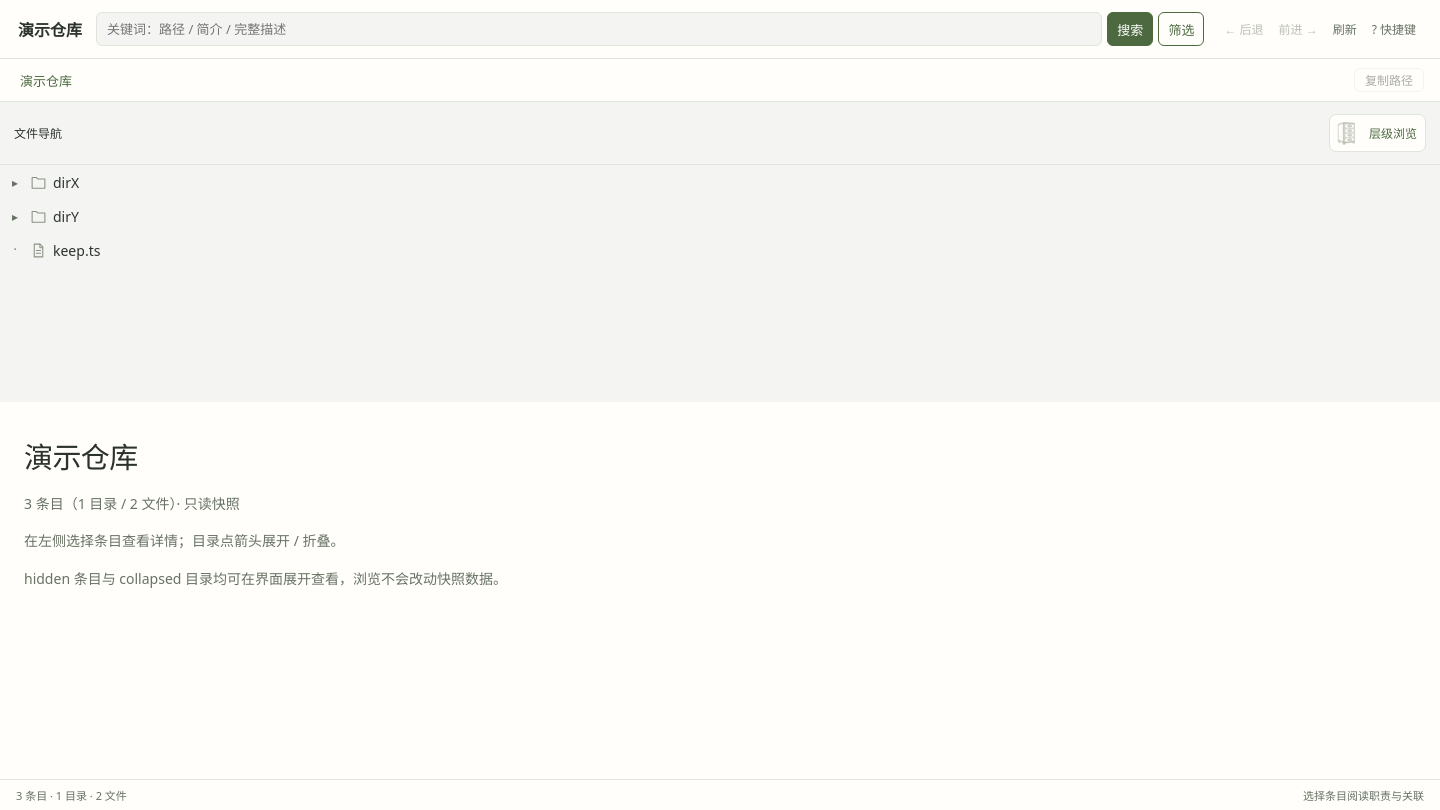
Scenario: 第二轮审查回归（R1/R4/R7/R10/R11） › R1：折叠选中项祖先后再触发懒加载完成，折叠不被弹回
Check: the text "dirX" is shown, box [53, 172, 79, 192]
选中 dirX/deep.ts：revealSelection 补齐祖先（此时祖先已展开，应为无变化操作）
Click the button named "展开 dirX": (15, 182) [6, 174, 24, 190]
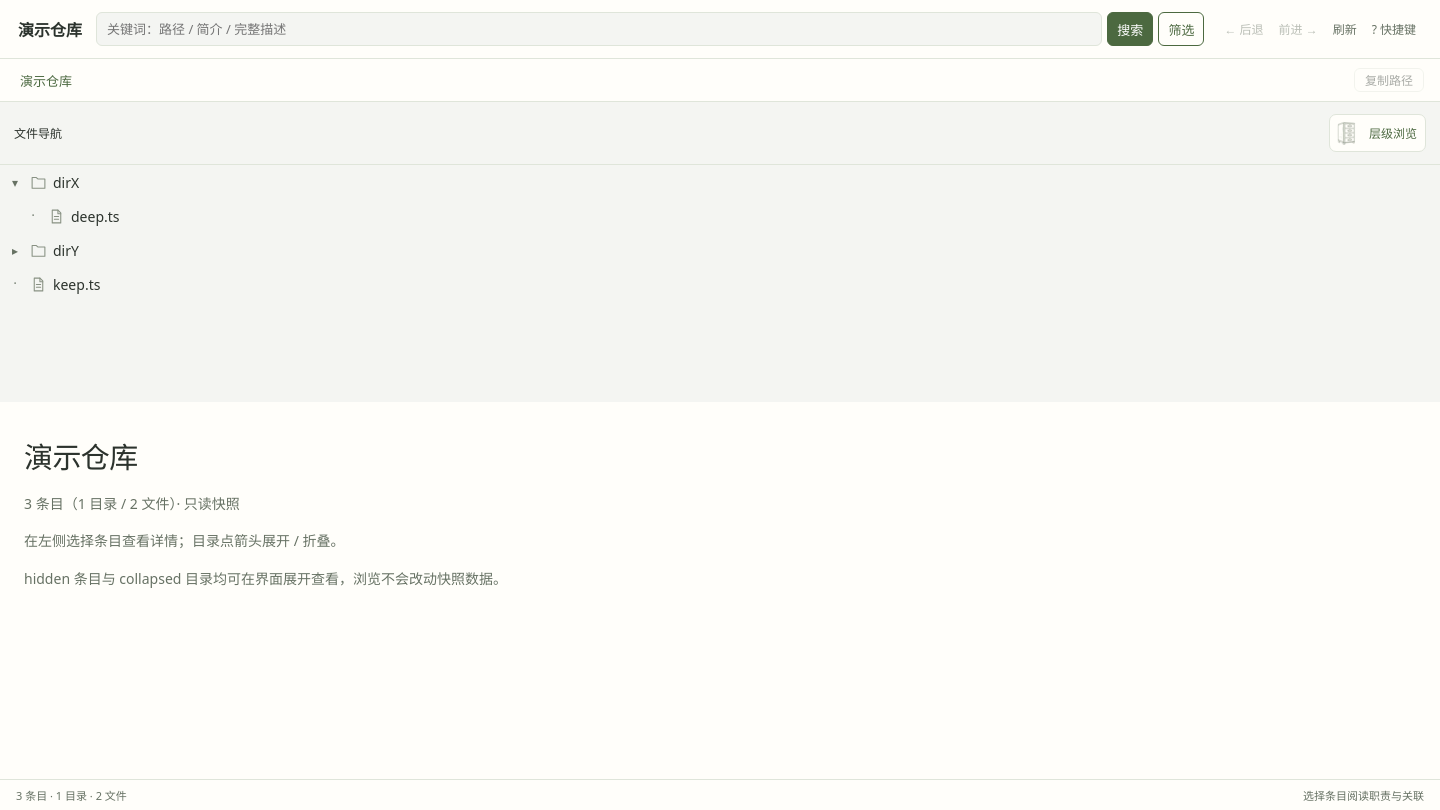
Check: the text "deep.ts" is shown
Click the text "deep.ts": (95, 216) [71, 206, 120, 226]
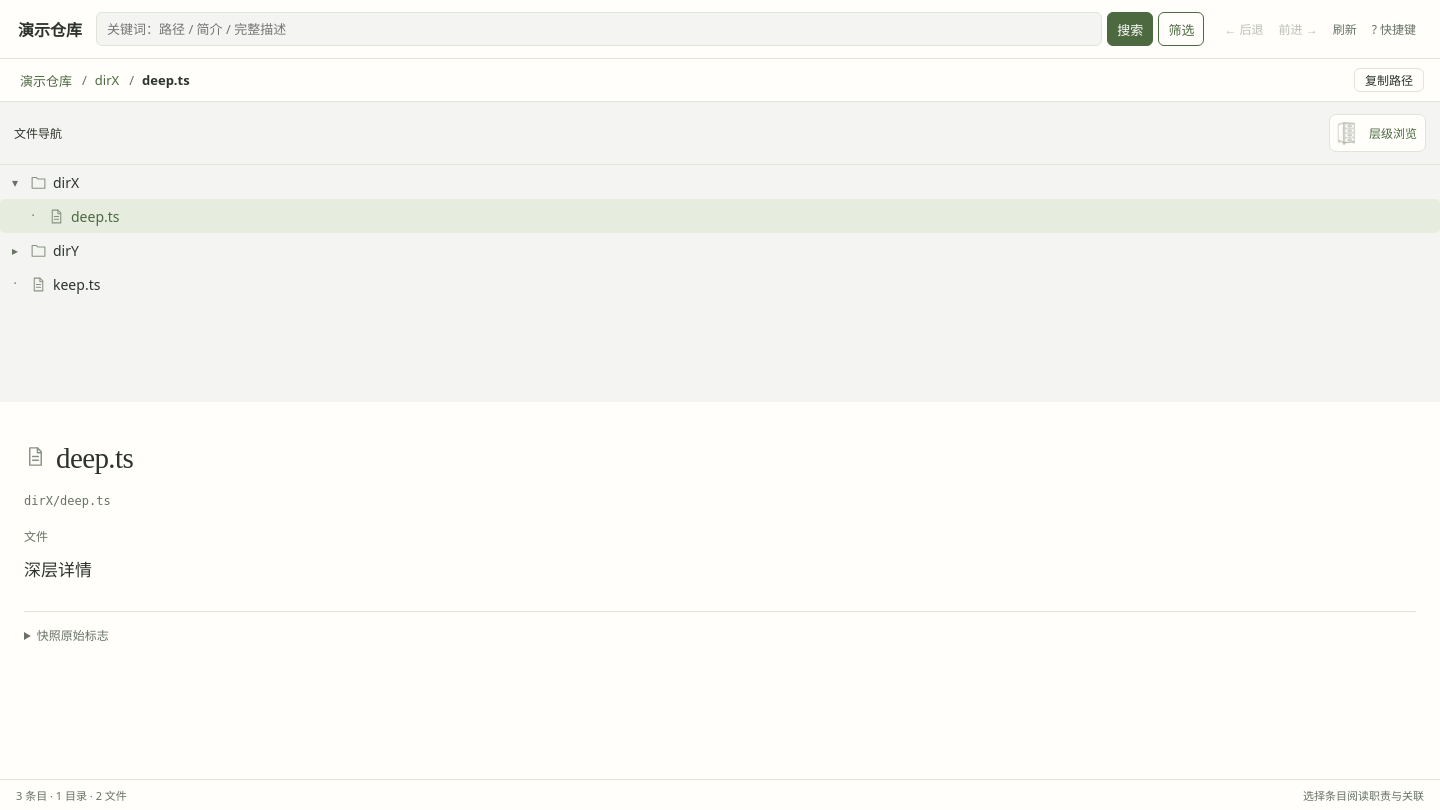
Check: the text "深层详情" is shown, box [24, 558, 92, 581]
用户显式折叠祖先 dirX
Click the button named "折叠 dirX": (15, 182) [6, 174, 24, 190]
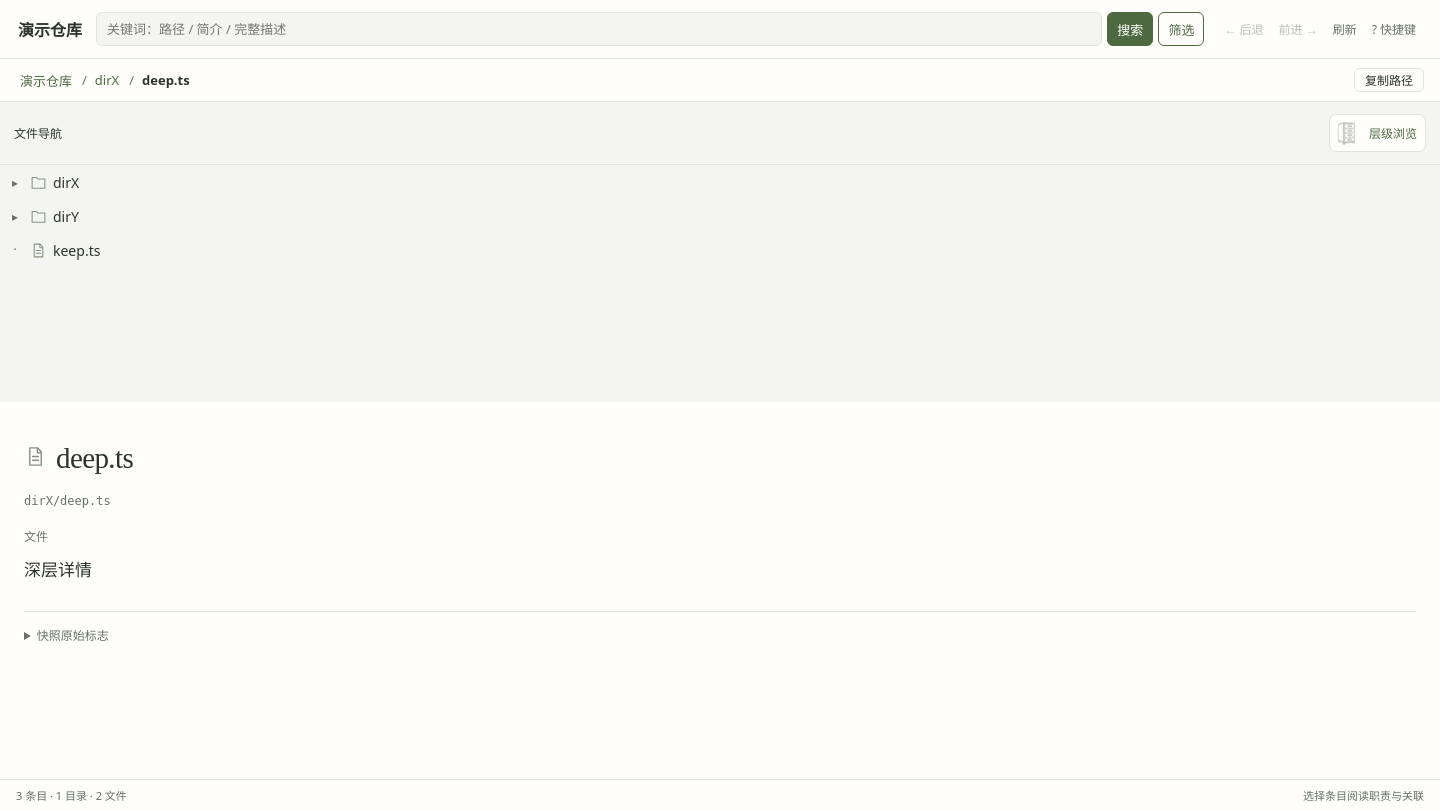
Check: the button named "展开 dirX" is shown, box [6, 174, 24, 190]
另一目录懒加载完成（childrenCache 引用变化）
Click the button named "展开 dirY": (15, 216) [6, 208, 24, 224]
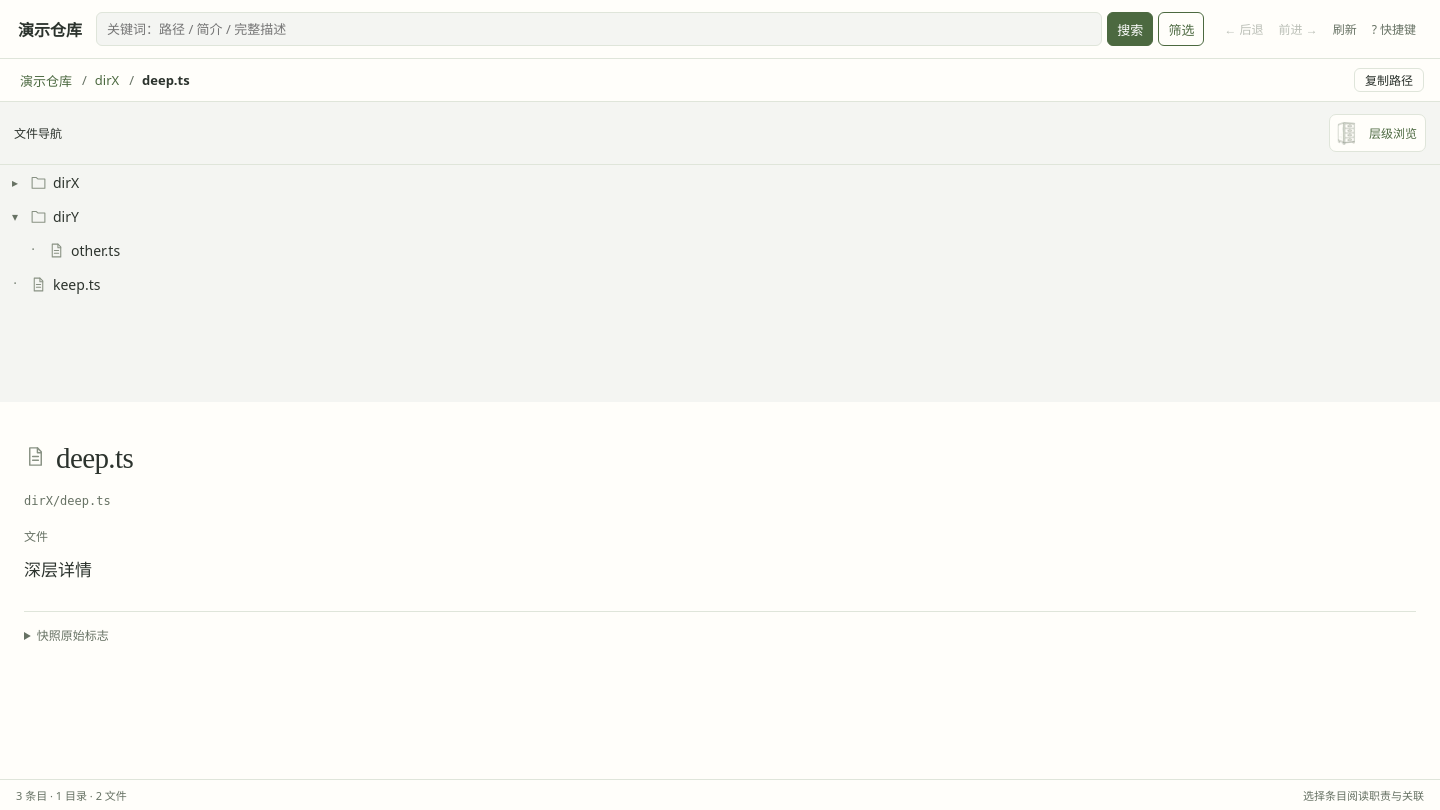
Check: the button named "展开 dirX" is shown, box [6, 174, 24, 190]
Check: the text "other.ts" is shown, box [71, 240, 120, 260]
